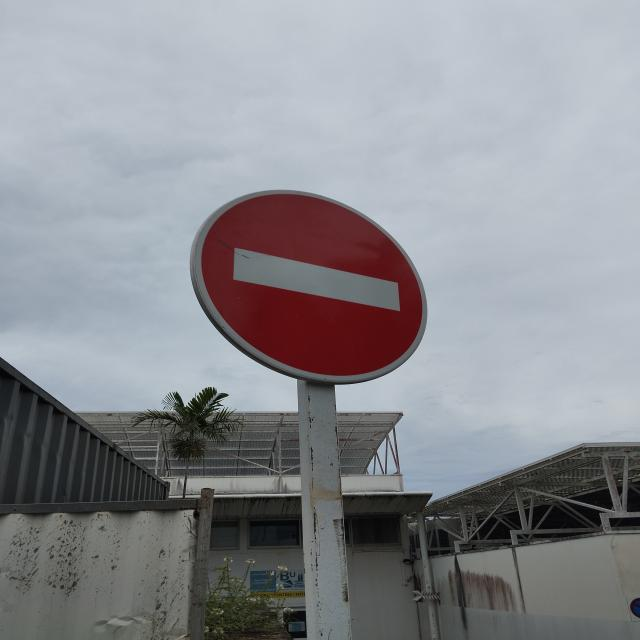Sens-Interdit: (190, 185, 428, 385)
